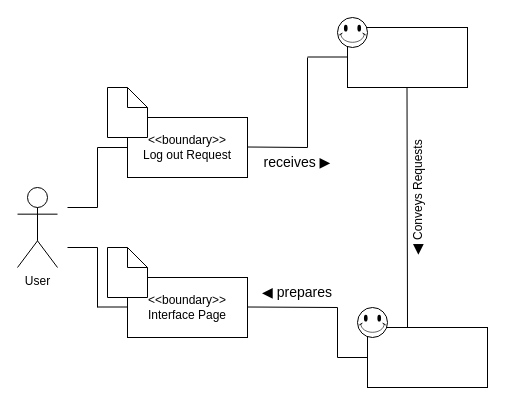
This 505x405 diagram has some shape labels left out. The shapes that lost their labels are listed below. From the top down, each one's box as (x1, y1, x2, y2) in pixels, then its label:
(346, 26, 468, 88): <<control>> Controller
(366, 326, 488, 388): <<entity>> Page Maker
